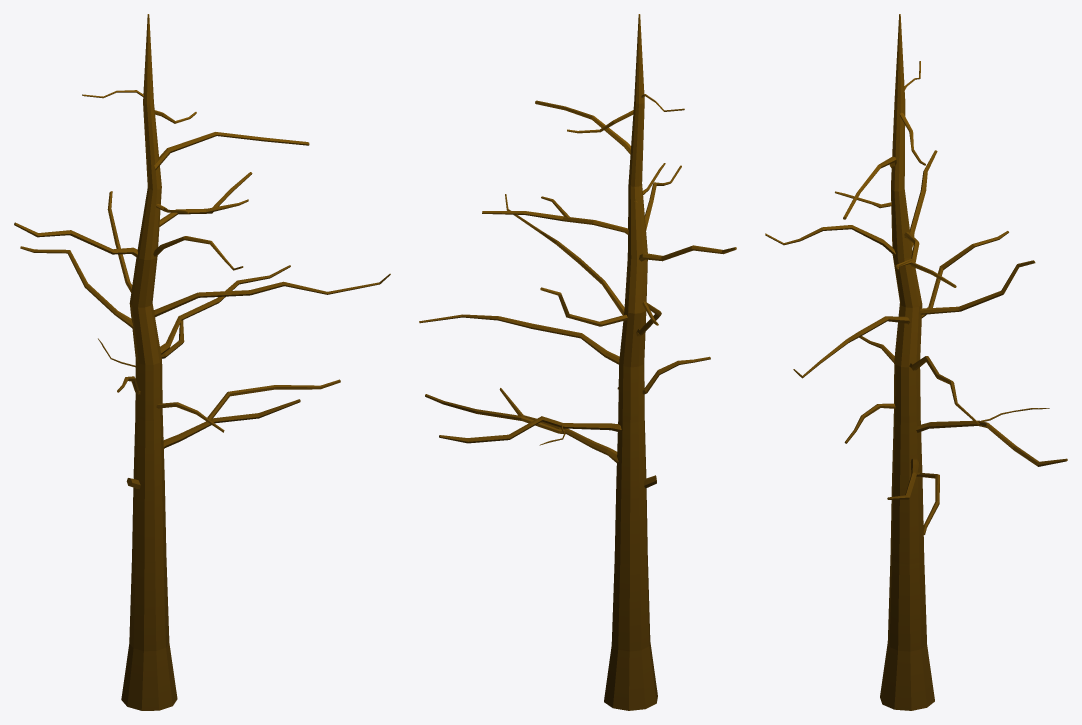
3 views of the same model, side by side, from view 1: azimuth 30°, elevation 25°; view 2: azimuth 150°, elevation 25°; view 3: azimuth 270°, elevation 25° (orthographic).
Visible parts, largest first — view 1: coniferous_trees_24; view 2: coniferous_trees_24; view 3: coniferous_trees_24.
Part boxes in pixels (x1,y1,x2,y2): coniferous_trees_24: (14,14,390,710); coniferous_trees_24: (419,14,736,710); coniferous_trees_24: (765,14,1067,710).
Bounding box in the file's own units: 2.75 × 5.66 × 2.27.
